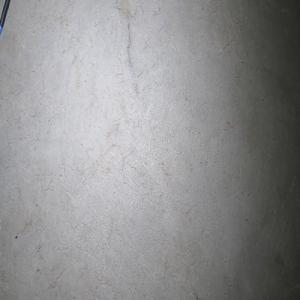Wire: (0, 0, 10, 35)
